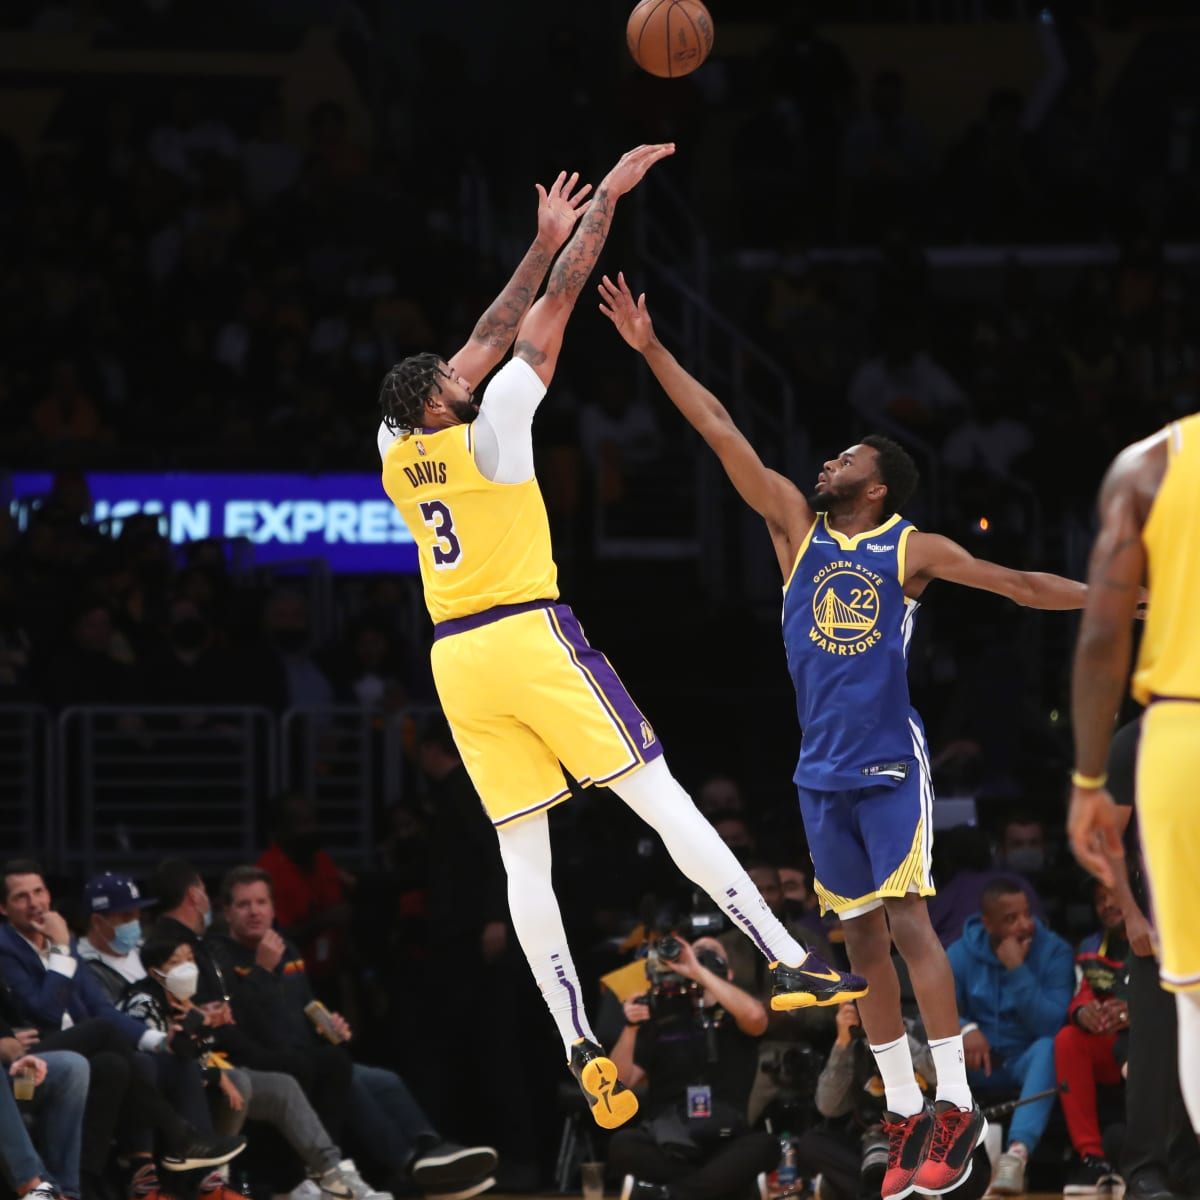Jumpshot: (451, 1, 716, 357)
